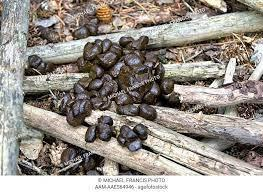Elk: (75, 37, 165, 141)
